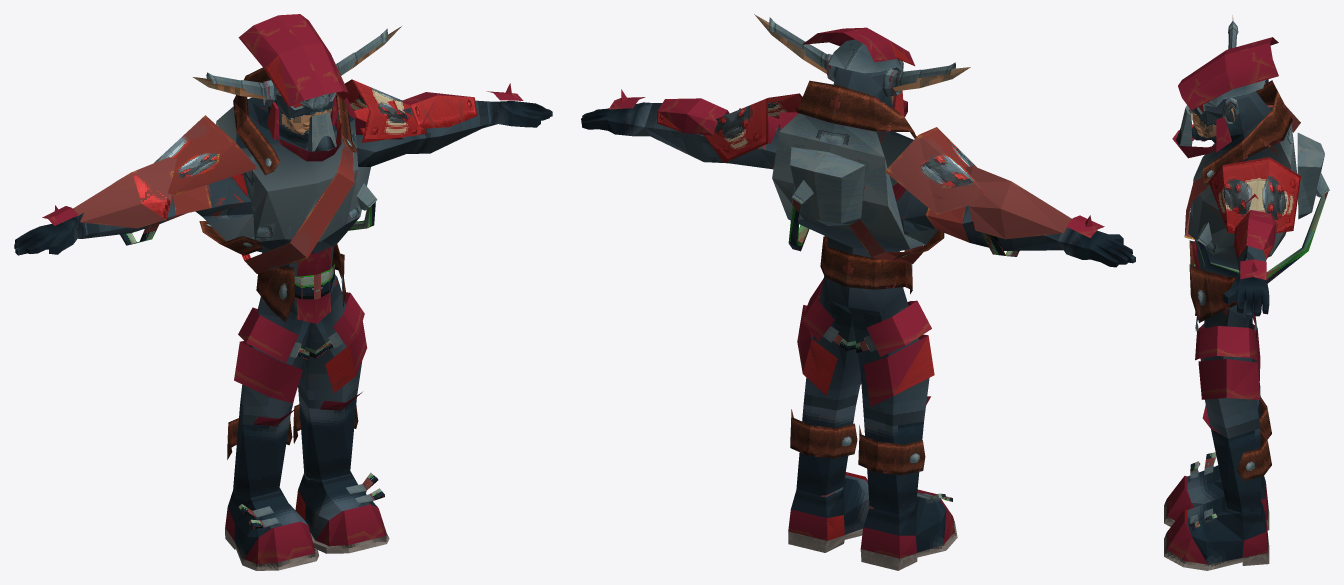
File: jakb-lod0.glb
The picture shows the model from 3 angles, left to right: view 1: azimuth 30°, elevation 25°; view 2: azimuth 150°, elevation 25°; view 3: azimuth 270°, elevation 25°; orthographic projection. The views are drawn at different scales.
Parts seen in each view (by area): view 1: crimson-guard-lod0; view 2: crimson-guard-lod0; view 3: crimson-guard-lod0.
Boxes of the visible parts, x1,y1,x2,y2 form: crimson-guard-lod0: (14, 14, 552, 570); crimson-guard-lod0: (581, 14, 1135, 570); crimson-guard-lod0: (1164, 15, 1329, 570).
Size of the model in its own units: 3.18 by 2.9 by 0.8787.
Materials: 23 (23 with a texture image).
